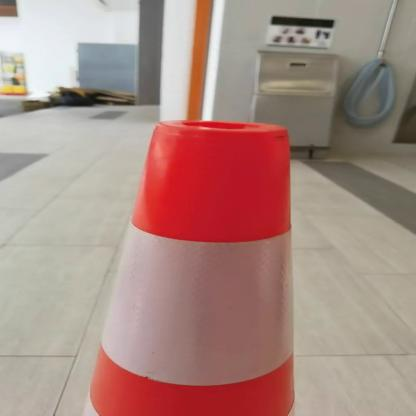cone: (73, 112, 353, 416)
